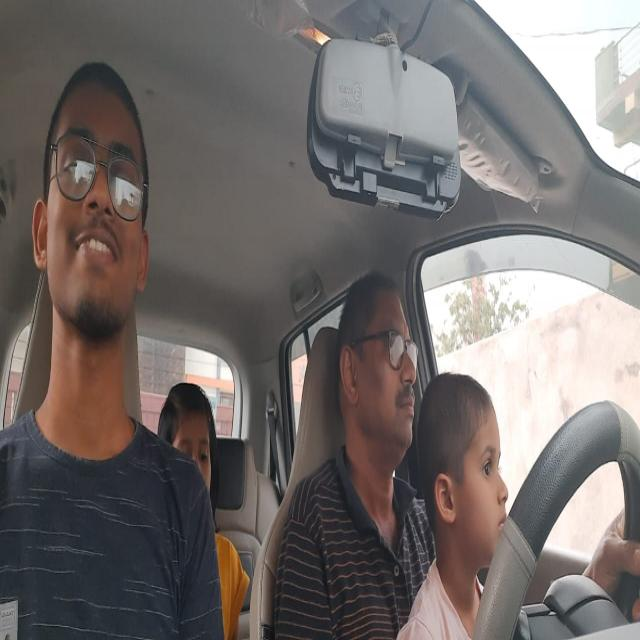child: (416, 374, 509, 596)
person: (28, 51, 154, 361), (340, 274, 416, 483), (156, 384, 223, 504)
